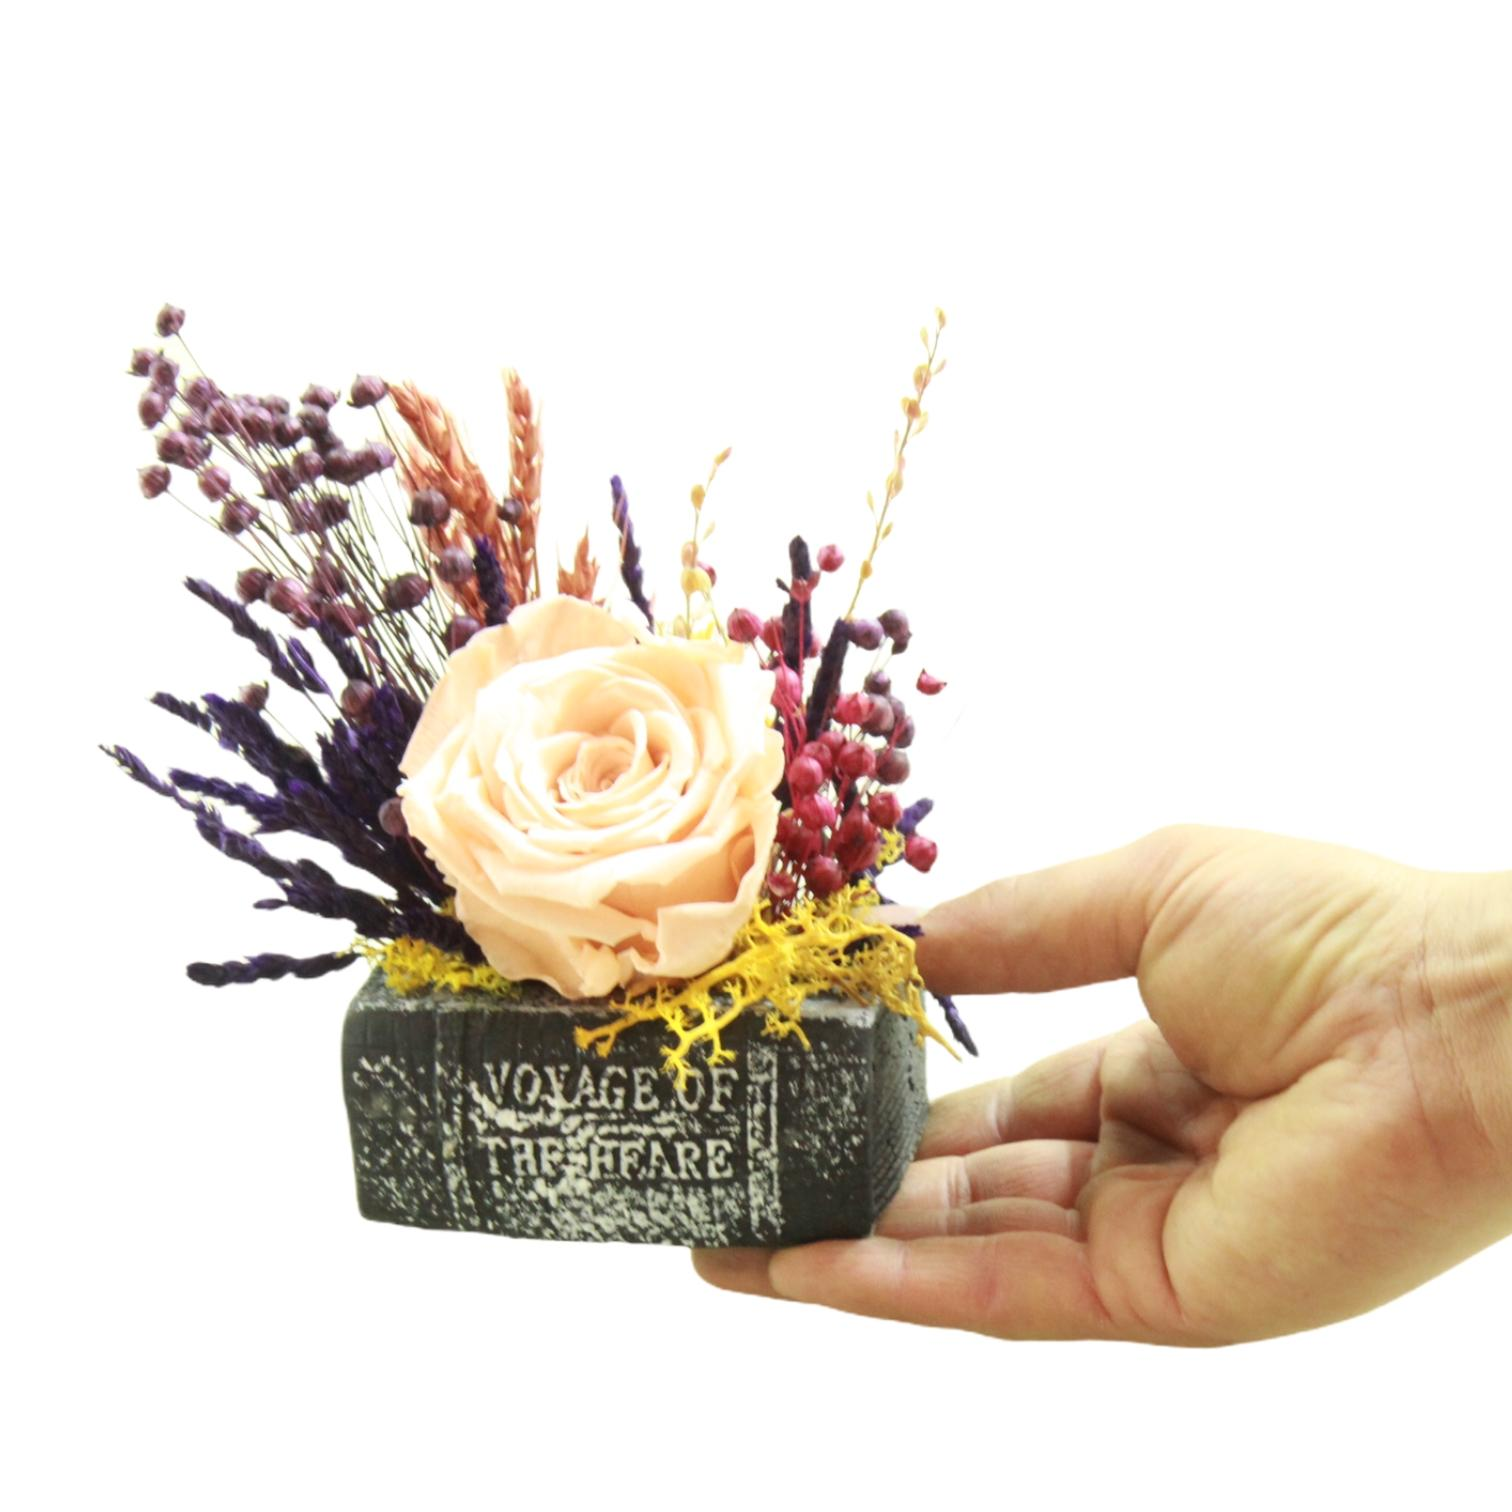Rose: (396, 590, 798, 1000)
